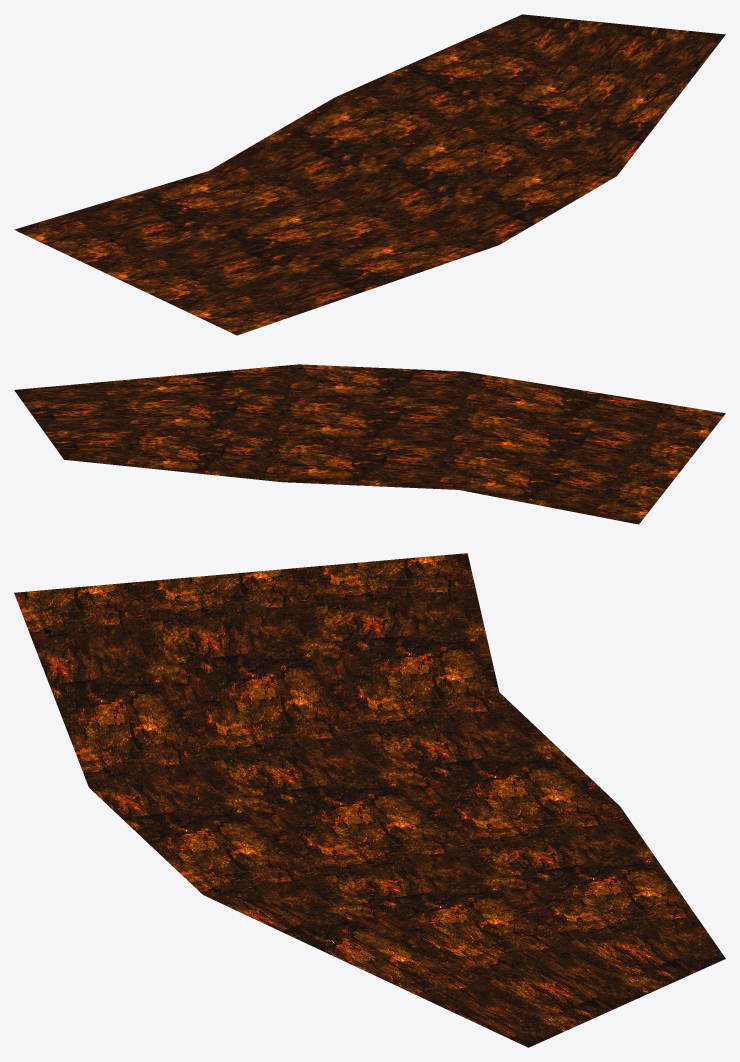
The model's file is water03.fbx.
3 renders of one model, top to bottom at view 1: azimuth 30°, elevation 25°; view 2: azimuth 150°, elevation 25°; view 3: azimuth 270°, elevation 25°, orthographic. The views are drawn at different scales.
Visible parts, largest first — view 1: water3; view 2: water3; view 3: water3.
Part boxes in pixels (bbox=[...]): water3: bbox=[14, 14, 725, 335]; water3: bbox=[14, 364, 725, 524]; water3: bbox=[14, 553, 725, 1047].
Size of the model in its own units: 6095 by 0.0114 by 3707.
